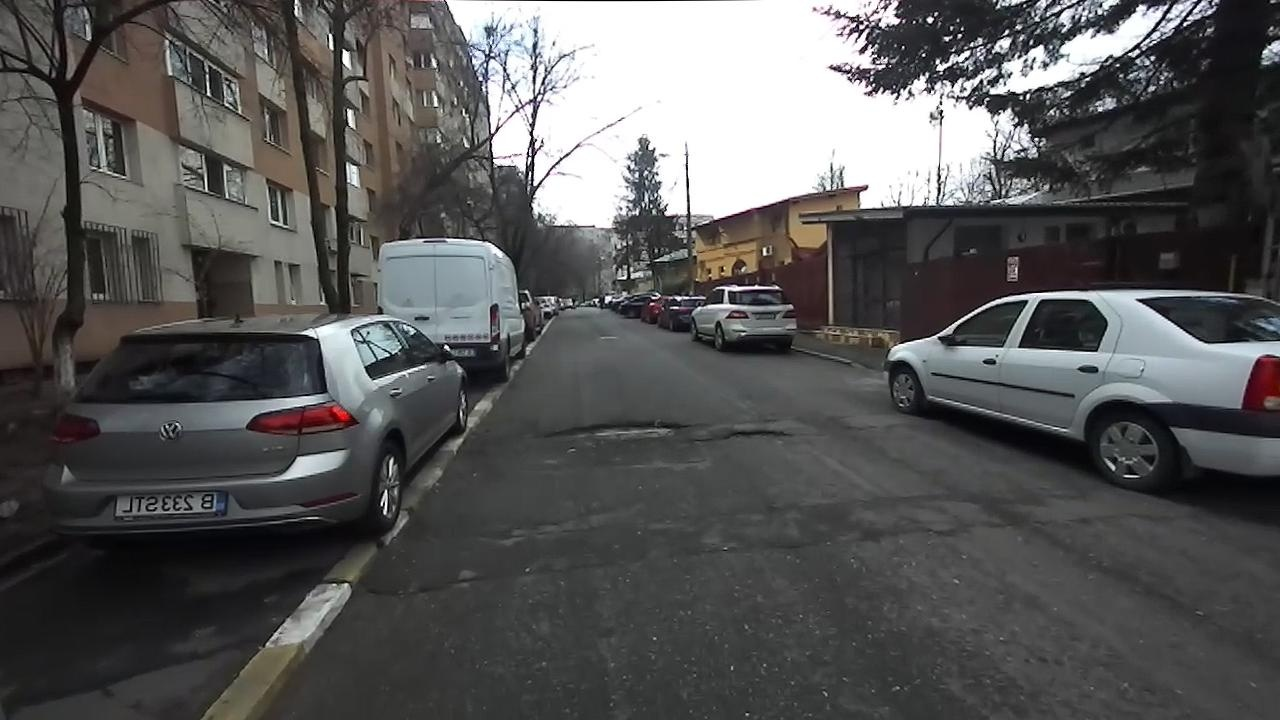pothole: (367, 569, 492, 607), (540, 417, 689, 447), (716, 424, 793, 441), (693, 436, 712, 441)
